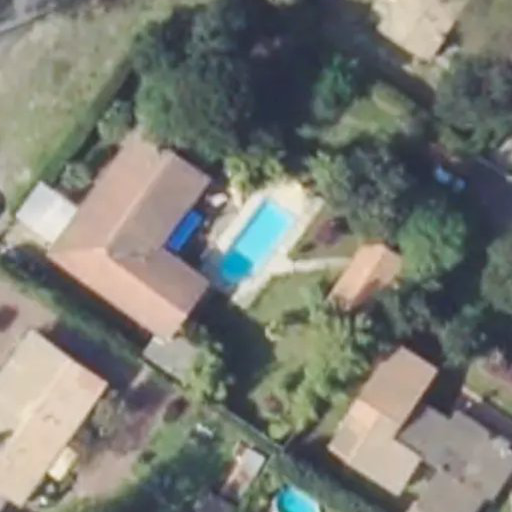pool: (213, 178, 293, 303), (273, 483, 317, 511)
